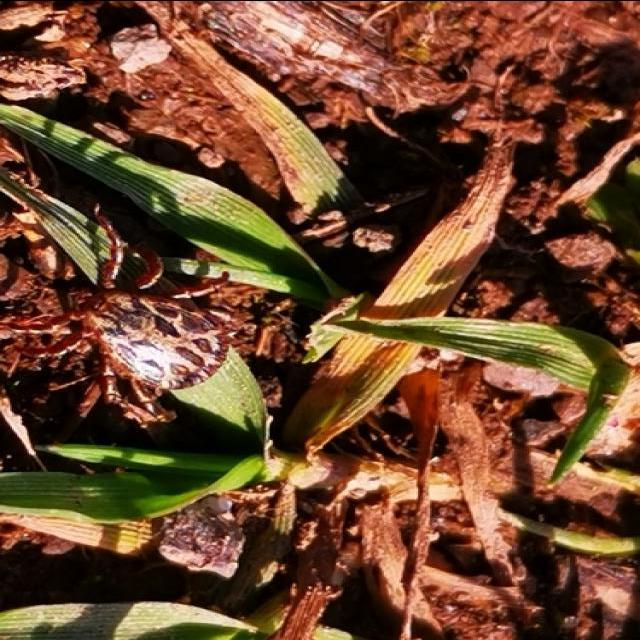Dermacentor Reticulatus-M: (0, 202, 229, 422)
